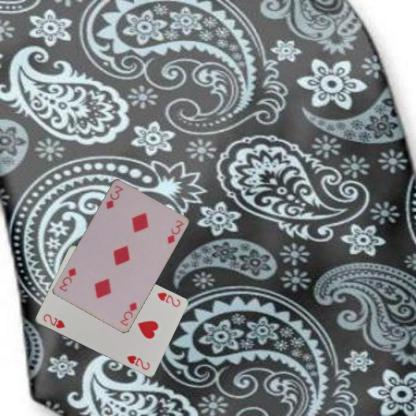2h: (154, 290, 182, 308), (40, 311, 66, 330)
3d: (103, 182, 124, 210), (117, 299, 138, 327)
